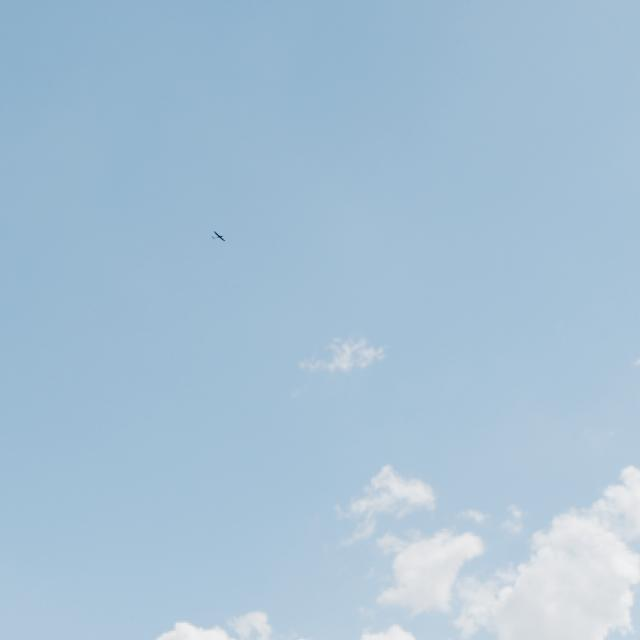Airaplan: (211, 231, 225, 241)
